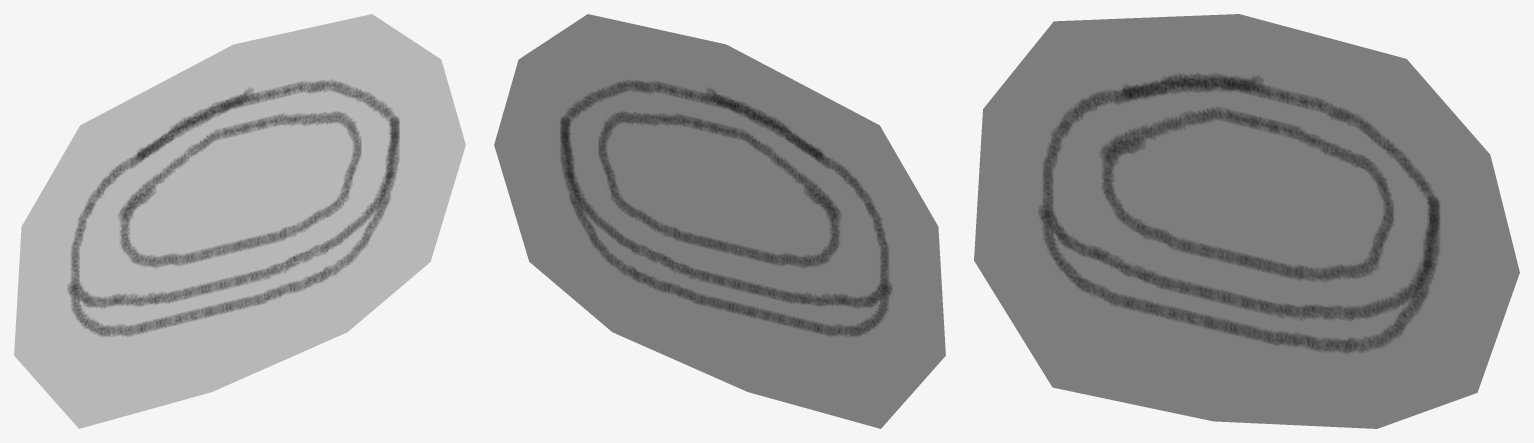
Rendered from Brunnlock.fbx.
3 views of the same model, side by side, from view 1: azimuth 30°, elevation 25°; view 2: azimuth 150°, elevation 25°; view 3: azimuth 330°, elevation 25° (orthographic). The views are drawn at different scales.
Parts seen in each view (by area): view 1: Plane.021; view 2: Plane.021; view 3: Plane.021.
Boxes of the visible parts, x1=… form: Plane.021: x1=14, y1=14, x2=465, y2=428; Plane.021: x1=494, y1=14, x2=945, y2=428; Plane.021: x1=974, y1=14, x2=1519, y2=428.
Bounding box in the file's own units: 61.04 × 44.77 × 7.29e-06.
Materials: 1 (1 with a texture image).
